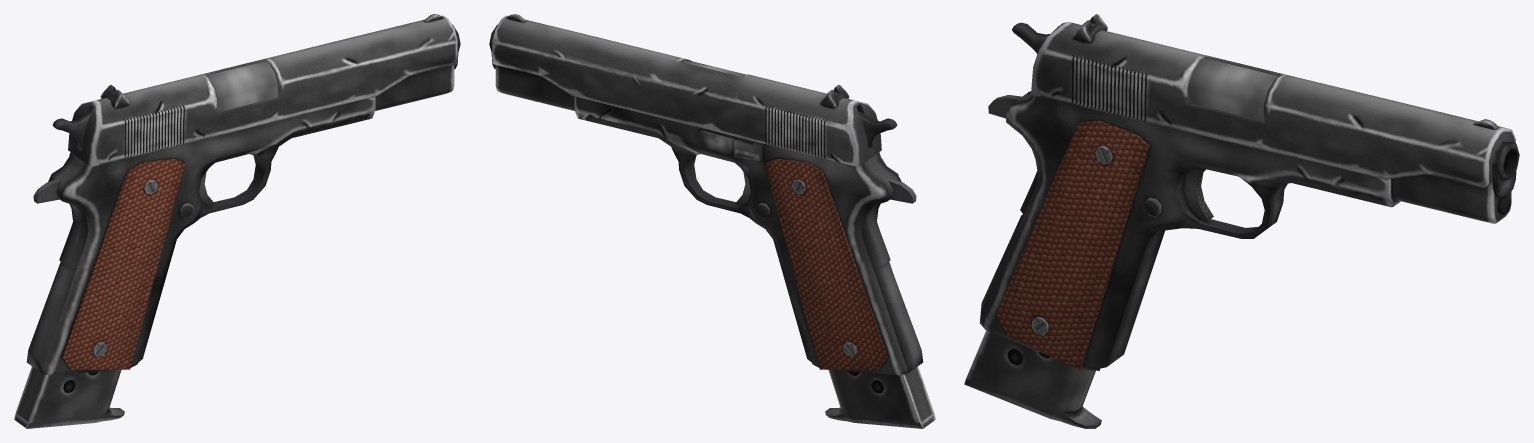
File: pistol2_000033.obj
3 renders of one model, left to right at view 1: azimuth 30°, elevation 25°; view 2: azimuth 150°, elevation 25°; view 3: azimuth 330°, elevation 25°, orthographic. The views are drawn at different scales.
Parts seen in each view (by area): view 1: M1911_Body_Cube.000, M1911_Slider_Cube.002, M1911_Magazine_Cube.003, M1911_Hammer_Cube.005; view 2: M1911_Body_Cube.000, M1911_Slider_Cube.002, M1911_Magazine_Cube.003, M1911_Hammer_Cube.005; view 3: M1911_Body_Cube.000, M1911_Slider_Cube.002, M1911_Magazine_Cube.003, M1911_Trigger_Cube.004, M1911_Hammer_Cube.005.
Boxes of the visible parts, <box> form: M1911_Body_Cube.000: <box>26,24,460,375</box>; M1911_Slider_Cube.002: <box>68,14,457,166</box>; M1911_Magazine_Cube.003: <box>14,366,124,428</box>; M1911_Hammer_Cube.005: <box>52,111,91,147</box>; M1911_Body_Cube.000: <box>489,24,923,375</box>; M1911_Slider_Cube.002: <box>492,14,881,166</box>; M1911_Magazine_Cube.003: <box>825,366,935,428</box>; M1911_Hammer_Cube.005: <box>858,111,897,147</box>; M1911_Body_Cube.000: <box>979,58,1519,370</box>; M1911_Slider_Cube.002: <box>1031,14,1515,188</box>; M1911_Magazine_Cube.003: <box>964,330,1101,428</box>; M1911_Trigger_Cube.004: <box>1182,167,1213,220</box>; M1911_Hammer_Cube.005: <box>1012,22,1050,53</box>.
Size of the model in its own units: 0.7232 by 0.5218 by 0.0783.
